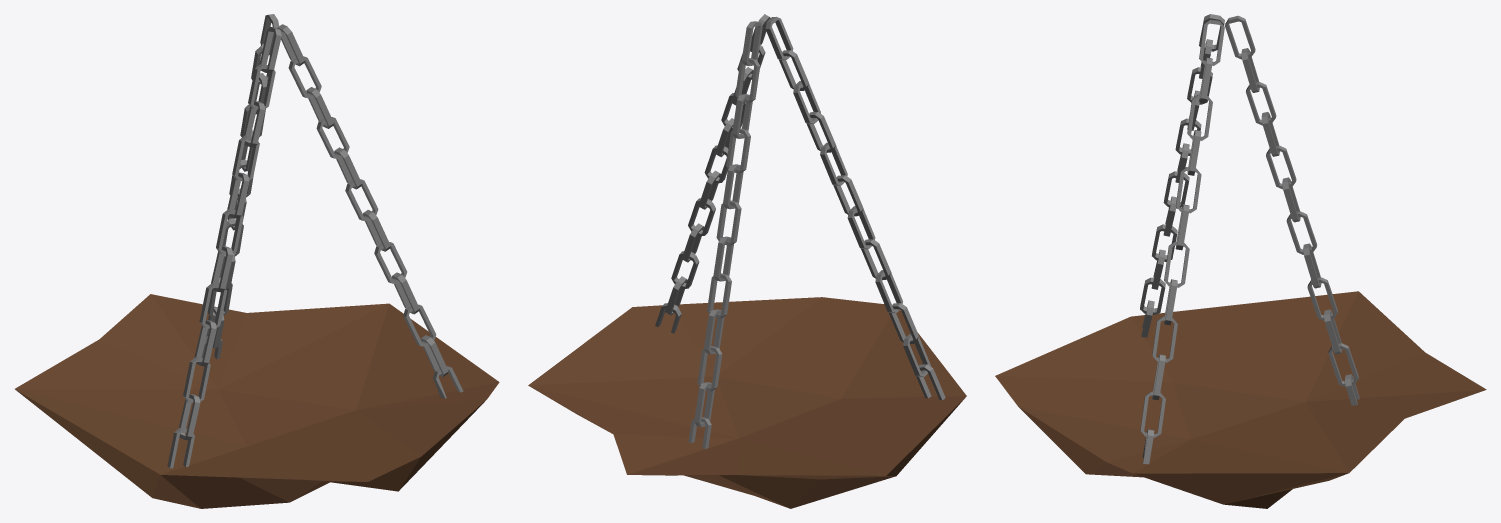
Rendered from Plate.fbx.
3 renders of one model, left to right at view 1: azimuth 30°, elevation 25°; view 2: azimuth 150°, elevation 25°; view 3: azimuth 270°, elevation 25°, orthographic. The views are drawn at different scales.
Parts seen in each view (by area): view 1: PratoD; view 2: PratoD; view 3: PratoD.
Boxes of the visible parts, box(x1,y1,x2,y2) form: PratoD: box(15, 14, 499, 508); PratoD: box(528, 14, 966, 508); PratoD: box(995, 14, 1486, 508).
Size of the model in its own units: 204 by 254 by 235.
